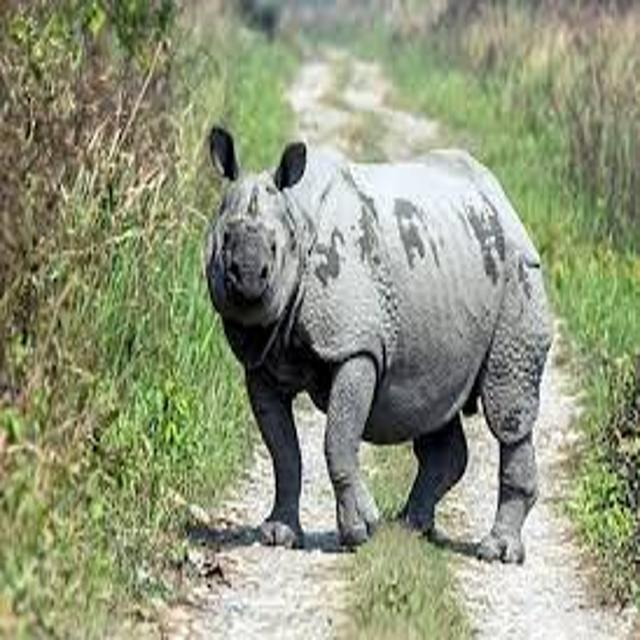Rinoceros: (167, 94, 574, 575)
